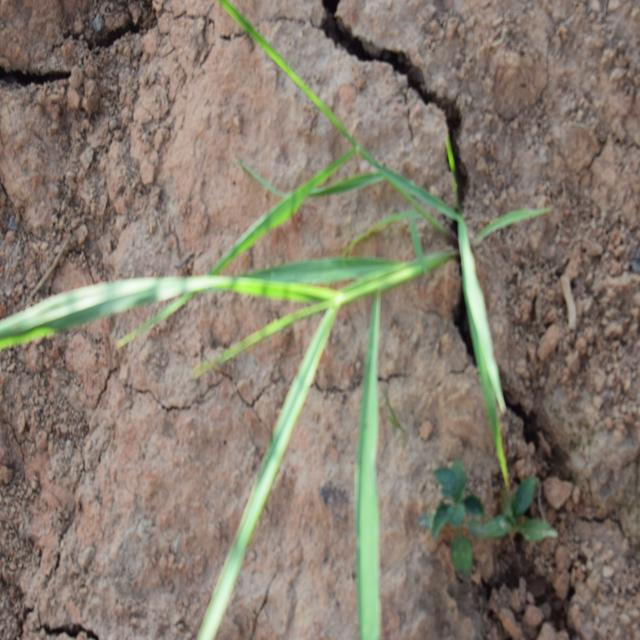green_foxtail: (117, 76, 503, 504)
